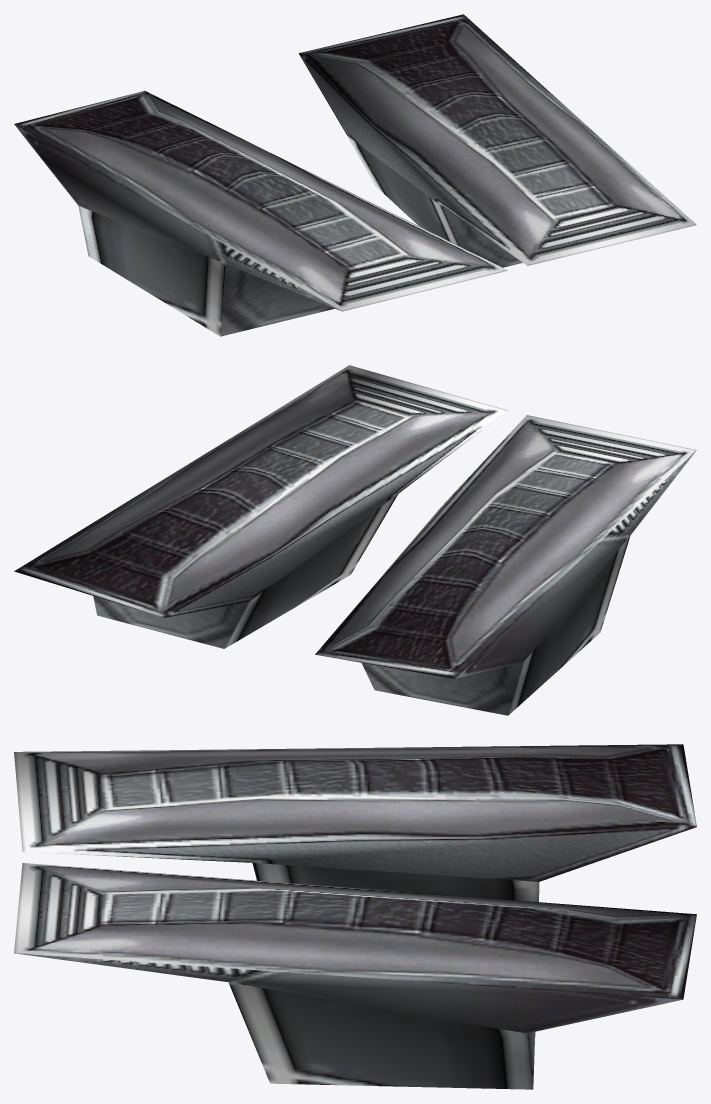
File: ArmPads4__EC.glb
3 views of the same model, one above another, from view 1: azimuth 30°, elevation 25°; view 2: azimuth 150°, elevation 25°; view 3: azimuth 270°, elevation 25° (orthographic). The views are drawn at different scales.
Parts seen in each view (by area): view 1: ArmPads4; view 2: ArmPads4; view 3: ArmPads4.
Boxes of the visible parts, <box> form: ArmPads4: <box>14,14,696,336</box>; ArmPads4: <box>14,365,696,715</box>; ArmPads4: <box>14,744,696,1089</box>.
Bounding box in the file's own units: 15.19 × 3.86 × 17.06.
1 material, 1 textured.
